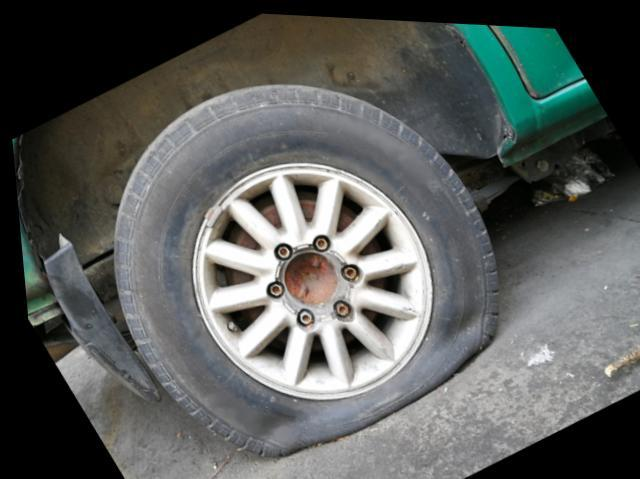tire flat: (109, 78, 493, 454)
